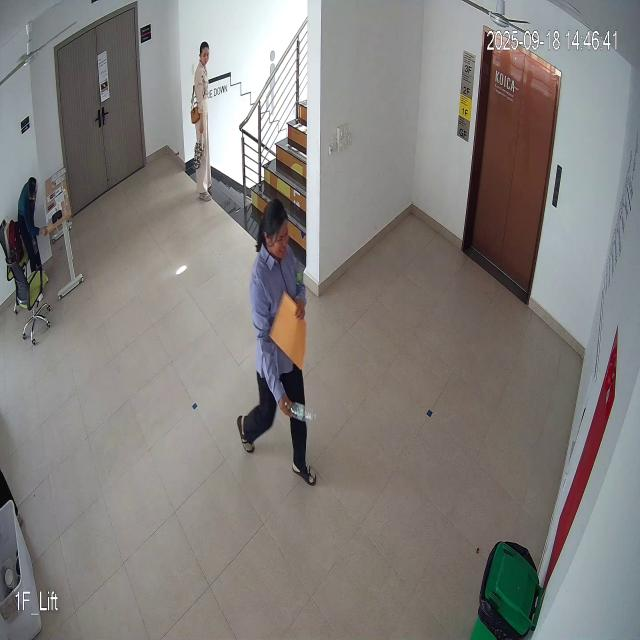face: (264, 198, 290, 262)
